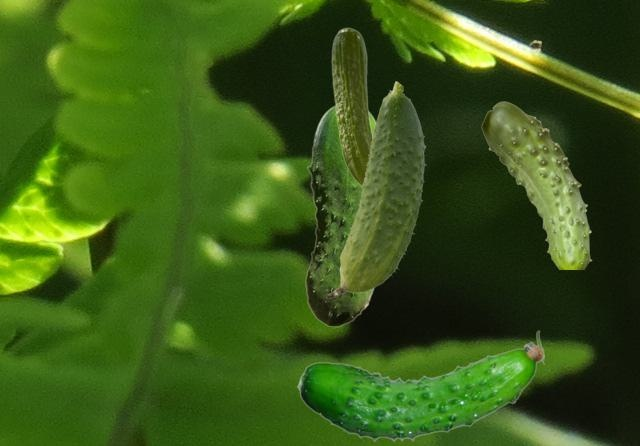cucumber: (296, 330, 543, 441), (326, 81, 425, 297), (481, 101, 591, 268), (305, 105, 375, 326), (331, 27, 371, 185)
